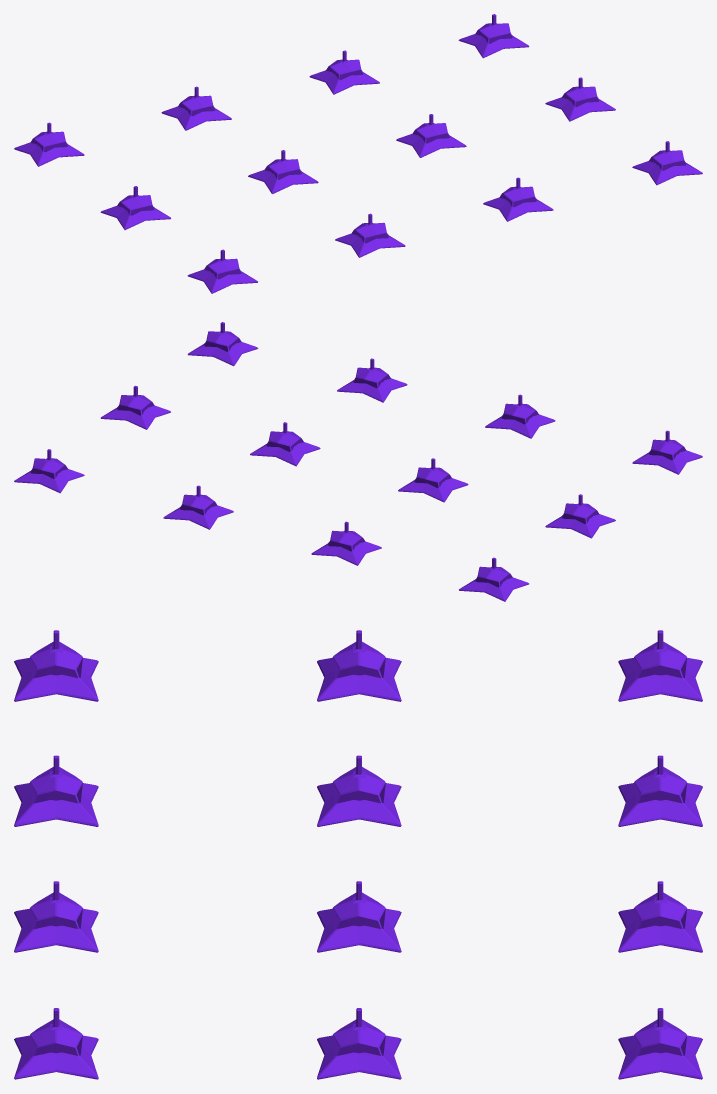
File: bombilla_n3 1.fbx
3 renders of one model, top to bottom at view 1: azimuth 30°, elevation 25°; view 2: azimuth 150°, elevation 25°; view 3: azimuth 270°, elevation 25°, orthographic. The views are drawn at different scales.
Parts seen in each view (by area): view 1: bombilla.004, bombilla.008, bombilla.009, bombilla.005, bombilla.007, bombilla.003, bombilla.006, bombilla.012, bombilla.002, bombilla.001, bombilla.010, bombilla.011; view 2: bombilla.009, bombilla.006, bombilla.007, bombilla.004, bombilla.010, bombilla.001, bombilla.002, bombilla.003, bombilla.008, bombilla.011, bombilla.012, bombilla.005; view 3: bombilla.003, bombilla.010, bombilla.004, bombilla.009, bombilla.001, bombilla.012, bombilla.002, bombilla.011, bombilla.005, bombilla.008, bombilla.006, bombilla.007.
Boxes of the visible parts, x1=… form: bombilla.004: x1=458, y1=14, x2=529, y2=58; bombilla.008: x1=248, y1=150, x2=318, y2=193; bombilla.009: x1=632, y1=141, x2=702, y2=185; bombilla.005: x1=545, y1=77, x2=615, y2=121; bombilla.007: x1=100, y1=186, x2=170, y2=229; bombilla.003: x1=309, y1=50, x2=379, y2=94; bombilla.006: x1=396, y1=114, x2=466, y2=157; bombilla.012: x1=335, y1=213, x2=405, y2=257; bombilla.002: x1=14, y1=122, x2=84, y2=166; bombilla.001: x1=161, y1=86, x2=231, y2=130; bombilla.010: x1=483, y1=177, x2=553, y2=221; bombilla.011: x1=187, y1=249, x2=257, y2=293; bombilla.009: x1=187, y1=322, x2=258, y2=366; bombilla.006: x1=250, y1=422, x2=320, y2=466; bombilla.007: x1=545, y1=494, x2=615, y2=538; bombilla.004: x1=14, y1=449, x2=84, y2=493; bombilla.010: x1=337, y1=358, x2=407, y2=402; bombilla.001: x1=311, y1=521, x2=381, y2=565; bombilla.002: x1=459, y1=557, x2=529, y2=601; bombilla.003: x1=163, y1=485, x2=233, y2=529; bombilla.008: x1=398, y1=458, x2=468, y2=502; bombilla.011: x1=632, y1=430, x2=702, y2=474; bombilla.012: x1=485, y1=394, x2=555, y2=438; bombilla.005: x1=100, y1=385, x2=170, y2=429; bombilla.003: x1=618, y1=881, x2=702, y2=952; bombilla.010: x1=14, y1=881, x2=98, y2=952; bombilla.004: x1=618, y1=1008, x2=702, y2=1079; bombilla.009: x1=14, y1=1008, x2=98, y2=1079; bombilla.001: x1=618, y1=755, x2=702, y2=826; bombilla.012: x1=14, y1=755, x2=98, y2=826; bombilla.002: x1=618, y1=630, x2=702, y2=701; bombilla.011: x1=14, y1=630, x2=98, y2=701; bombilla.005: x1=317, y1=1008, x2=401, y2=1079; bombilla.008: x1=317, y1=755, x2=401, y2=826; bombilla.006: x1=317, y1=881, x2=401, y2=952; bombilla.007: x1=317, y1=630, x2=401, y2=701.
Bounding box in the file's own units: 994 × 57.83 × 693.
